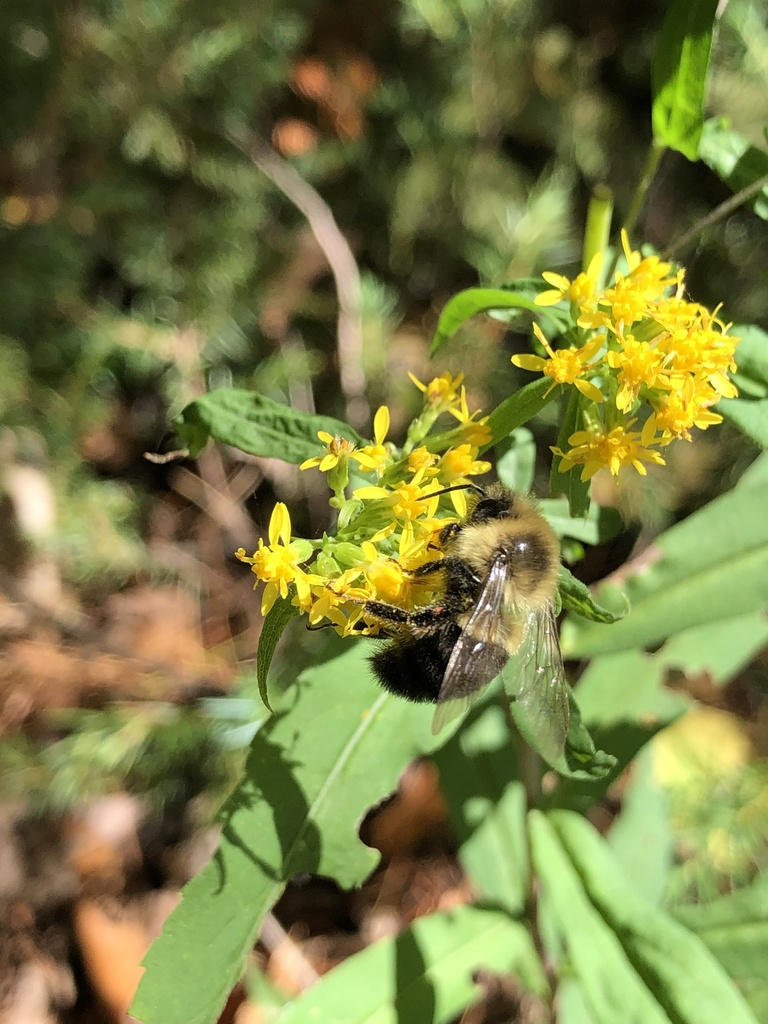bumblebee: (362, 484, 570, 759)
